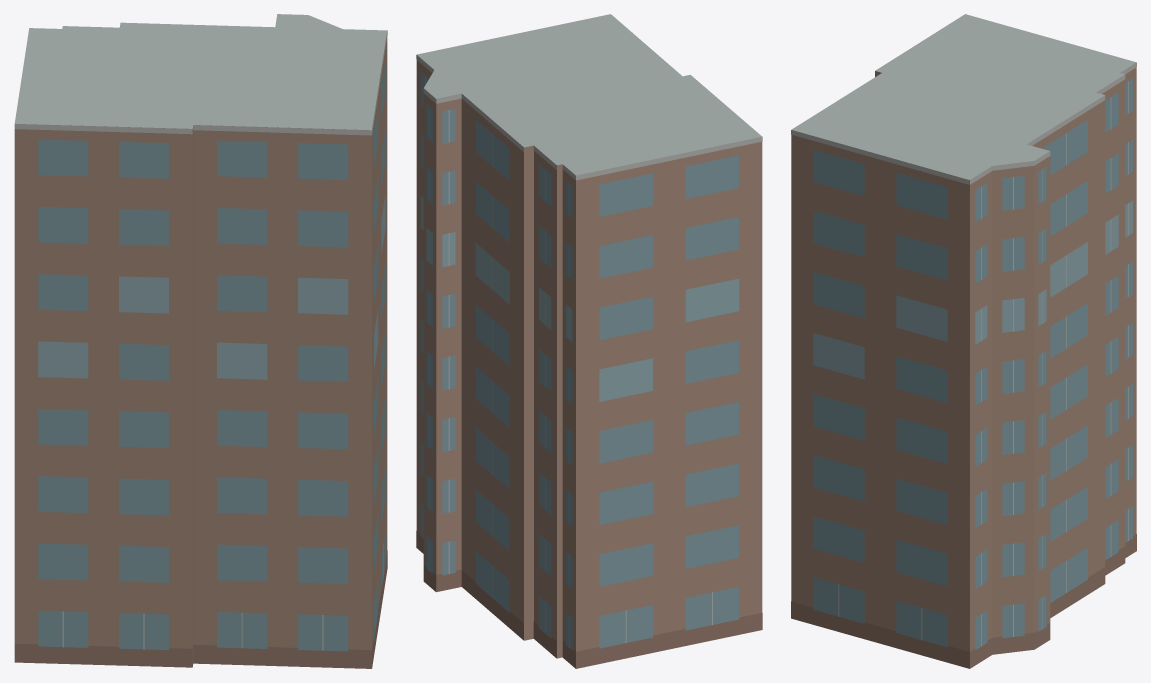
Rendered from survey-upis-32854291.glb.
The picture shows the model from 3 angles, left to right: view 1: azimuth 30°, elevation 25°; view 2: azimuth 150°, elevation 25°; view 3: azimuth 270°, elevation 25°; orthographic projection. The views are drawn at different scales.
Parts seen in each view (by area): view 1: survey-upis-32854291.tmp; view 2: survey-upis-32854291.tmp; view 3: survey-upis-32854291.tmp.
Part boxes in pixels (left/top/right/bottom): survey-upis-32854291.tmp: left=14, top=14, right=387, bottom=668; survey-upis-32854291.tmp: left=416, top=14, right=762, bottom=668; survey-upis-32854291.tmp: left=791, top=14, right=1136, bottom=668.
Bounding box in the file's own units: 18.09 × 24.8 × 15.9.
